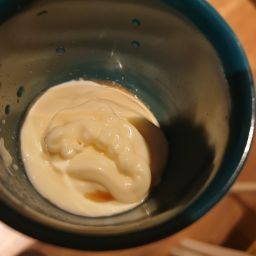Mayonnaise: (12, 74, 167, 214), (39, 91, 152, 206)
